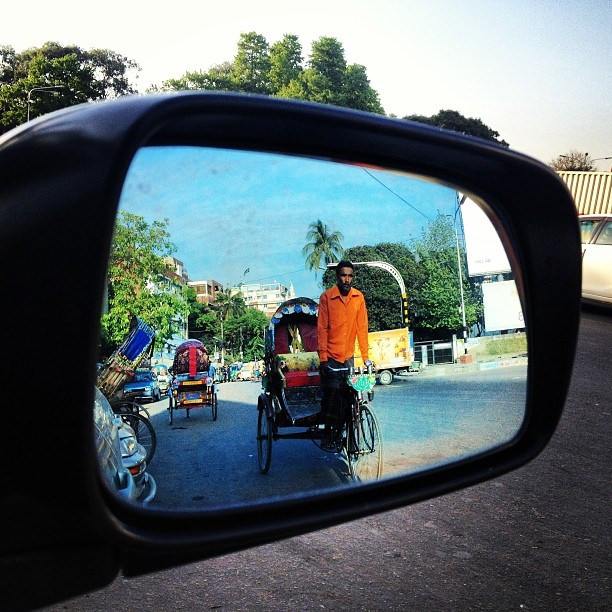Rickshaw: (253, 276, 392, 472), (100, 311, 162, 475), (165, 328, 232, 432)
